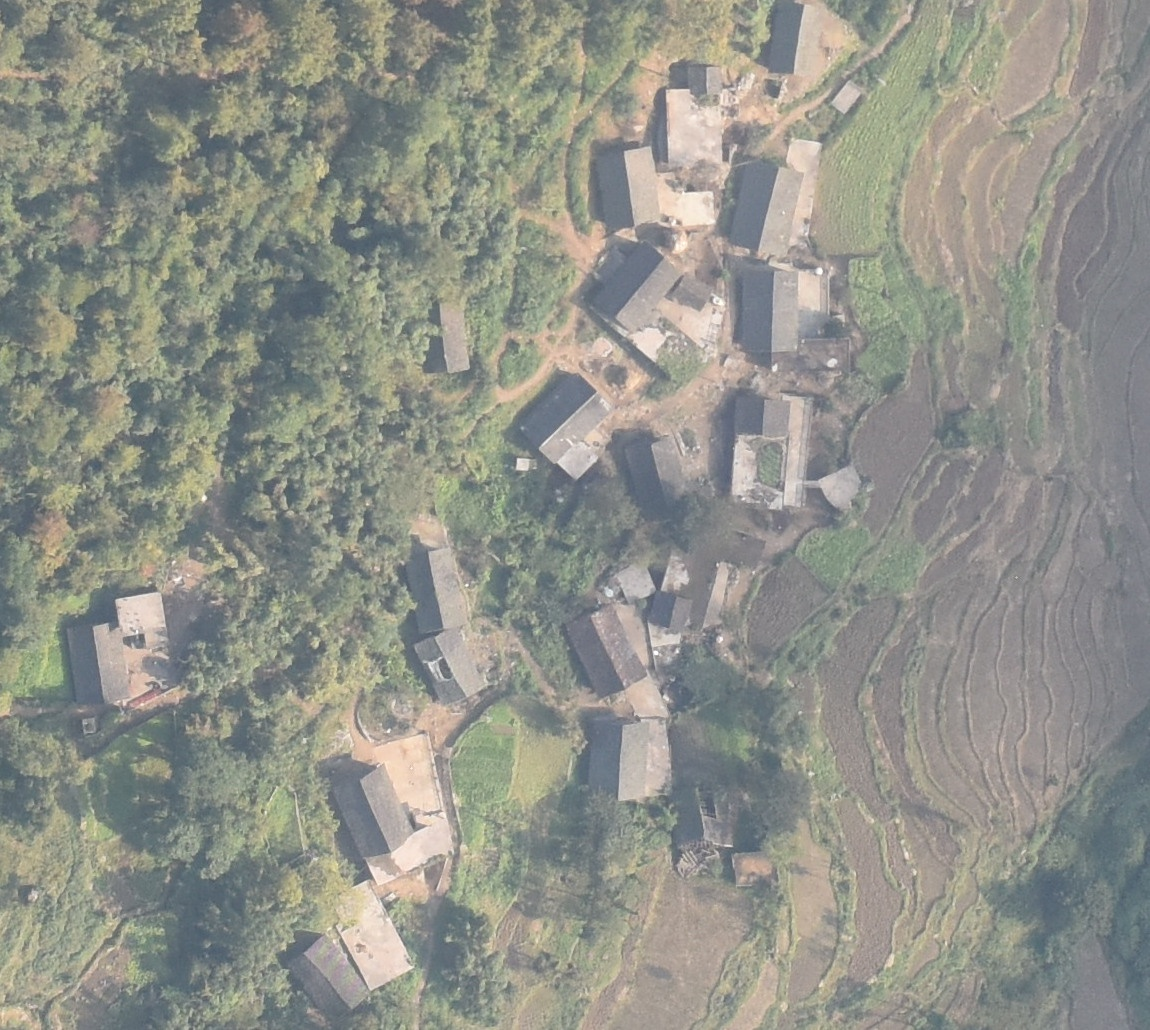building: (324, 880, 416, 989), (517, 371, 610, 465), (592, 242, 682, 332), (331, 763, 415, 859), (562, 606, 648, 699), (286, 936, 372, 1018), (729, 165, 803, 252), (625, 436, 695, 521), (64, 621, 132, 703), (405, 549, 473, 630), (594, 146, 661, 228), (730, 438, 807, 509), (414, 629, 486, 704), (741, 267, 800, 353), (589, 718, 649, 800), (664, 87, 725, 167), (768, 1, 828, 76), (667, 787, 736, 851), (414, 300, 471, 373), (114, 591, 170, 649), (770, 339, 851, 375), (732, 396, 793, 438), (614, 562, 656, 603), (649, 590, 692, 630), (729, 852, 778, 887), (555, 441, 599, 479), (832, 80, 865, 115), (686, 65, 723, 93)
